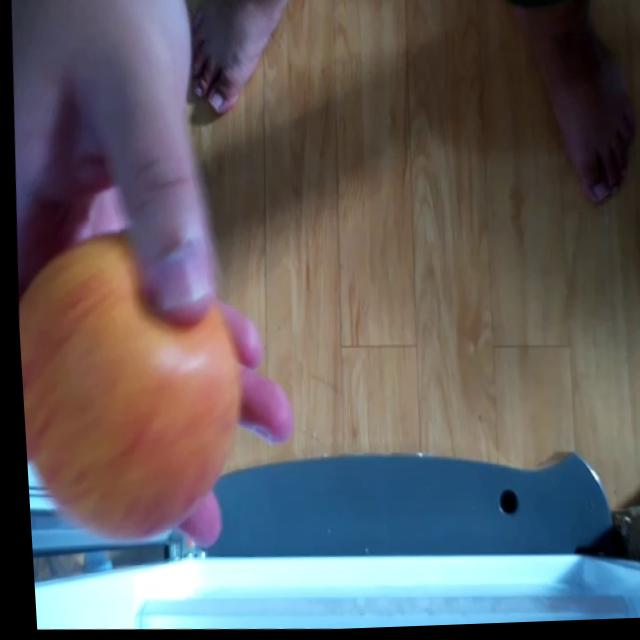apple: (11, 233, 243, 540)
